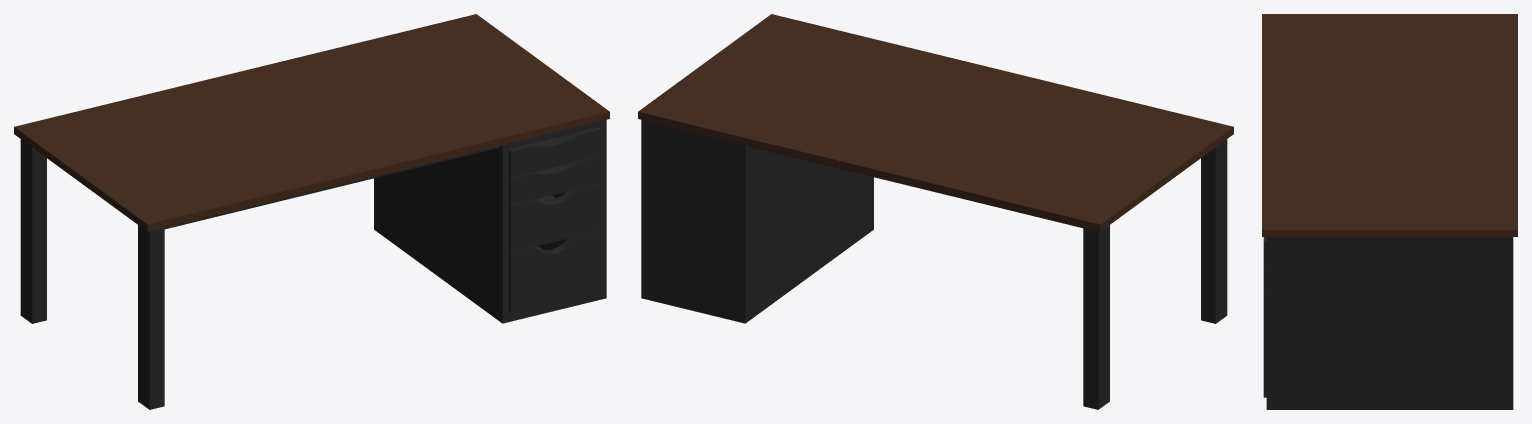
File: Bedroom_Desk.fbx
The picture shows the model from 3 angles, left to right: view 1: azimuth 30°, elevation 25°; view 2: azimuth 150°, elevation 25°; view 3: azimuth 270°, elevation 25°; orthographic projection. The views are drawn at different scales.
Visible parts, largest first — view 1: Bedroom_Desk; view 2: Bedroom_Desk; view 3: Bedroom_Desk.
Boxes of the visible parts, bbox=[...] form: Bedroom_Desk: bbox=[14, 14, 609, 409]; Bedroom_Desk: bbox=[638, 14, 1233, 409]; Bedroom_Desk: bbox=[1262, 14, 1517, 409].
Bounding box in the file's own units: 2 × 0.7775 × 1.
